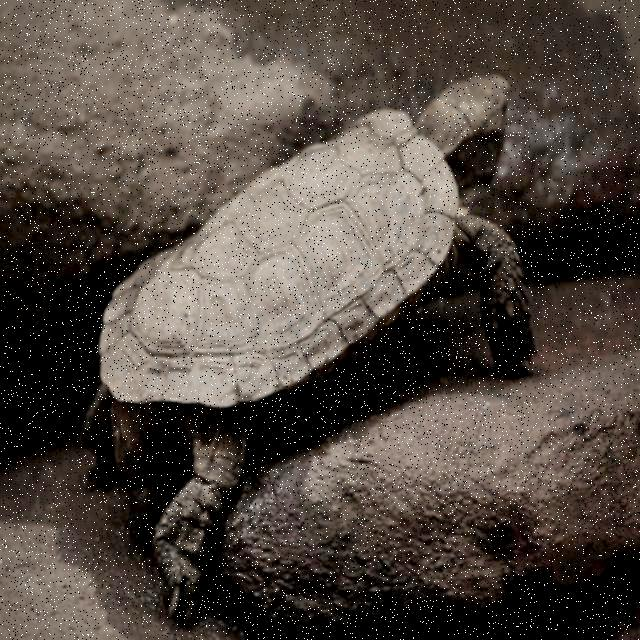tortoise: (96, 74, 554, 514)
